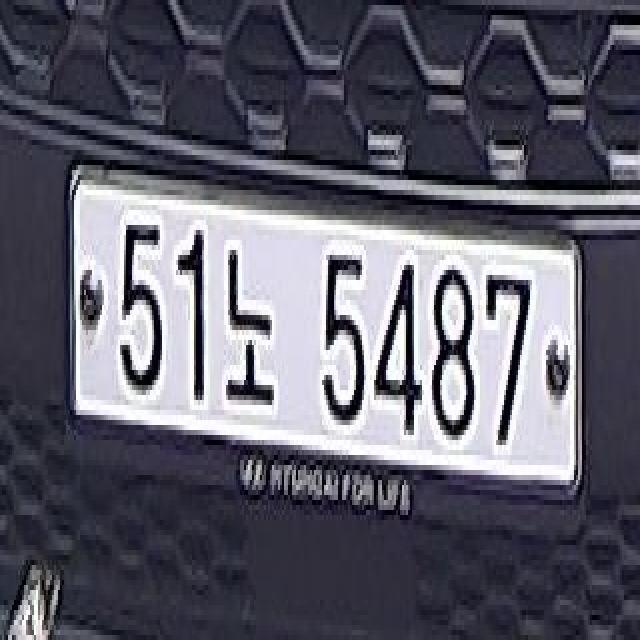1: (175, 225, 214, 418)
4: (372, 251, 424, 447)
5: (318, 236, 369, 446), (118, 218, 168, 410)
7: (484, 266, 536, 458)
8: (432, 260, 480, 450)
license_plate: (64, 182, 589, 503)
no: (224, 243, 284, 424)
